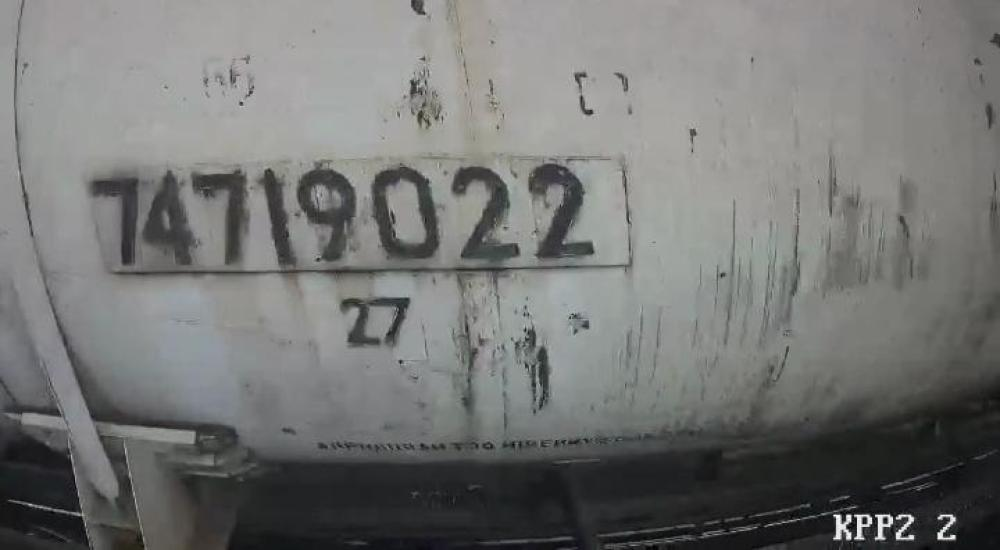Wagon-number: (87, 160, 600, 274)
